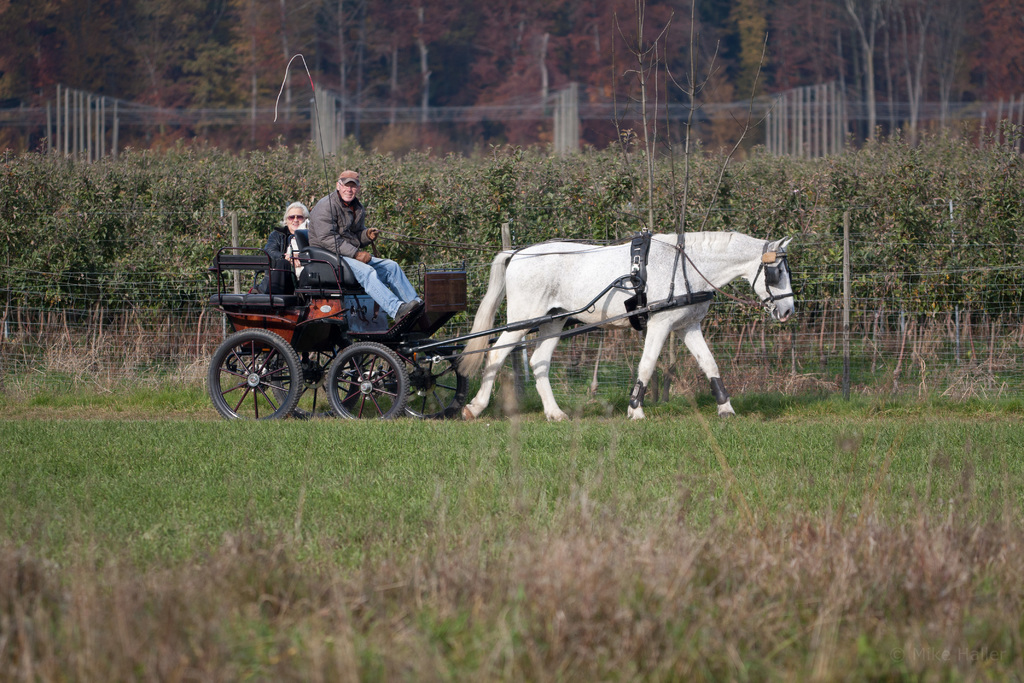horse: (454, 229, 796, 418)
